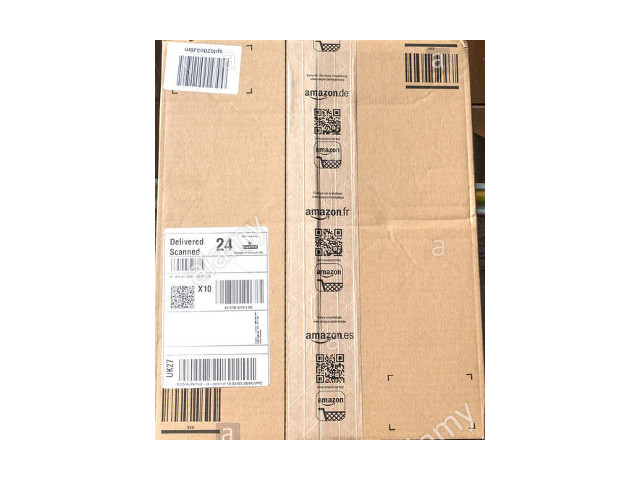cardboard: (159, 40, 475, 435)
